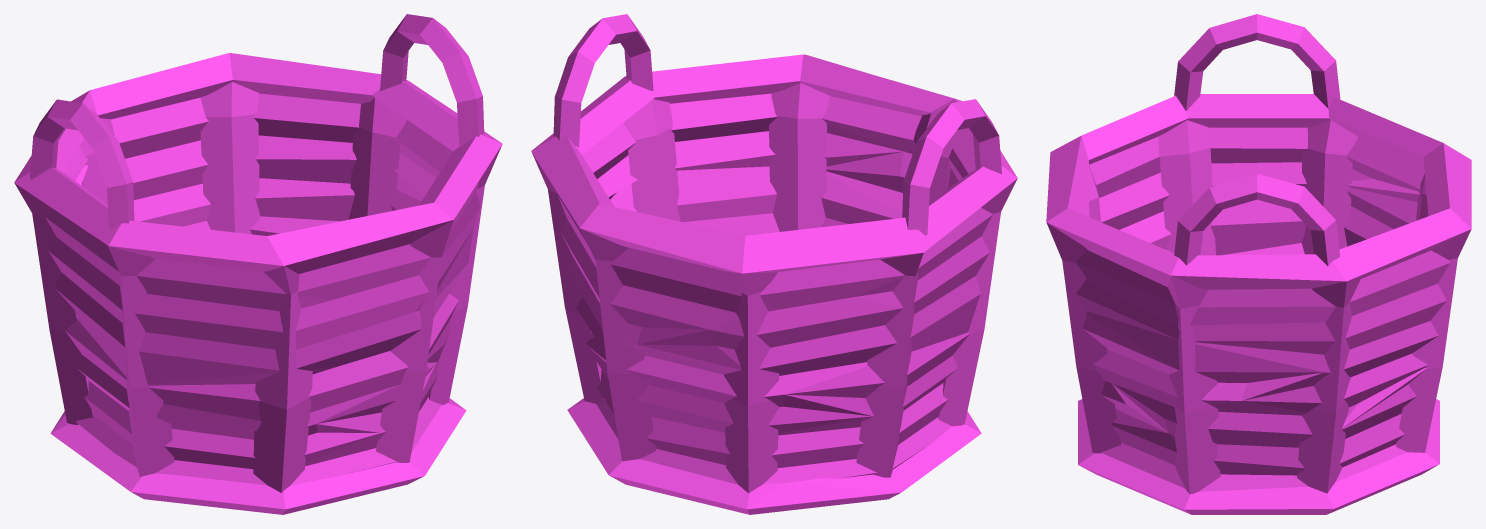
The model's file is SM_Basket_Big_Fantasy.fbx.
The picture shows the model from 3 angles, left to right: view 1: azimuth 30°, elevation 25°; view 2: azimuth 150°, elevation 25°; view 3: azimuth 270°, elevation 25°; orthographic projection. The views are drawn at different scales.
Visible parts, largest first — view 1: SM_Basket_Big_Fantasy; view 2: SM_Basket_Big_Fantasy; view 3: SM_Basket_Big_Fantasy.
Boxes of the visible parts, x1,y1,x2,y2 form: SM_Basket_Big_Fantasy: [14, 14, 502, 514]; SM_Basket_Big_Fantasy: [531, 14, 1017, 514]; SM_Basket_Big_Fantasy: [1046, 14, 1471, 514].
Bounding box in the file's own units: 0.7472 × 0.6814 × 0.7465.
